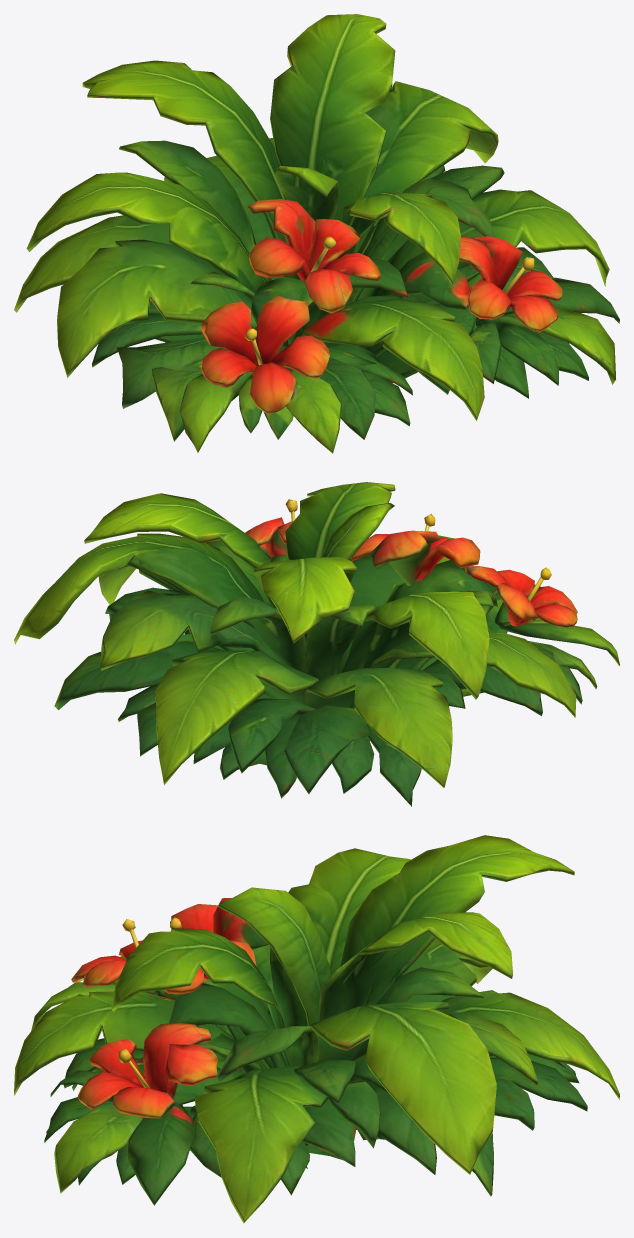
The model's file is sunny-hibiscus.glb.
3 views of the same model, one above another, from view 1: azimuth 30°, elevation 25°; view 2: azimuth 150°, elevation 25°; view 3: azimuth 270°, elevation 25° (orthographic). The views are drawn at different scales.
Visible parts, largest first — view 1: sunny-hibiscus_LOD0; view 2: sunny-hibiscus_LOD0; view 3: sunny-hibiscus_LOD0.
Part boxes in pixels (<box>): sunny-hibiscus_LOD0: <box>14,14,619,453</box>; sunny-hibiscus_LOD0: <box>14,482,619,806</box>; sunny-hibiscus_LOD0: <box>14,835,619,1223</box>.
Size of what is drawn, in the model's own units: 1 by 0.5056 by 1.
Materials: 1 (1 with a texture image).
